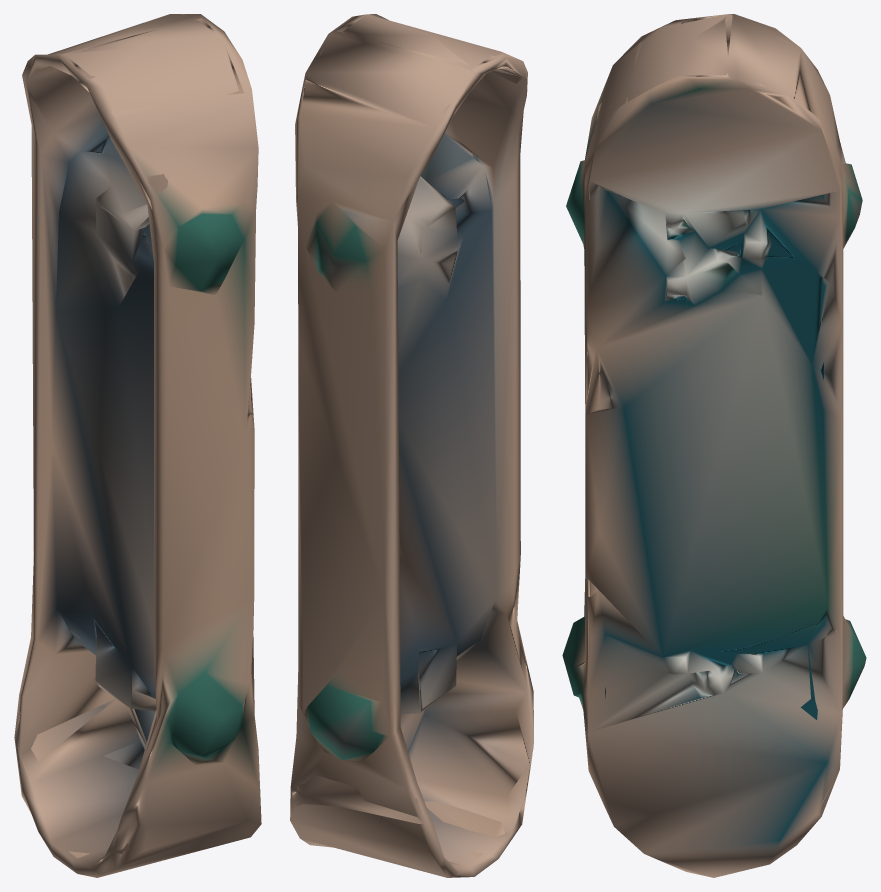
File: gen3d-skateboard-lod1.glb
The picture shows the model from 3 angles, left to right: view 1: azimuth 30°, elevation 25°; view 2: azimuth 150°, elevation 25°; view 3: azimuth 270°, elevation 25°; orthographic projection. The views are drawn at different scales.
Visible parts, largest first — view 1: part_0; view 2: part_0; view 3: part_0.
Part boxes in pixels (x1,y1,x2,y2): part_0: (14, 14, 261, 877); part_0: (290, 14, 533, 877); part_0: (562, 14, 866, 877).
Size of the model in its own units: 0.1915 by 0.9972 by 0.3436.
